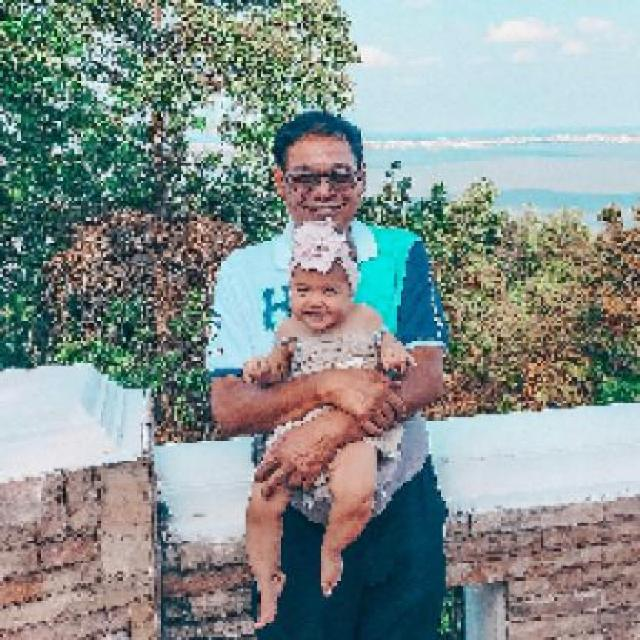child: (238, 224, 418, 627)
